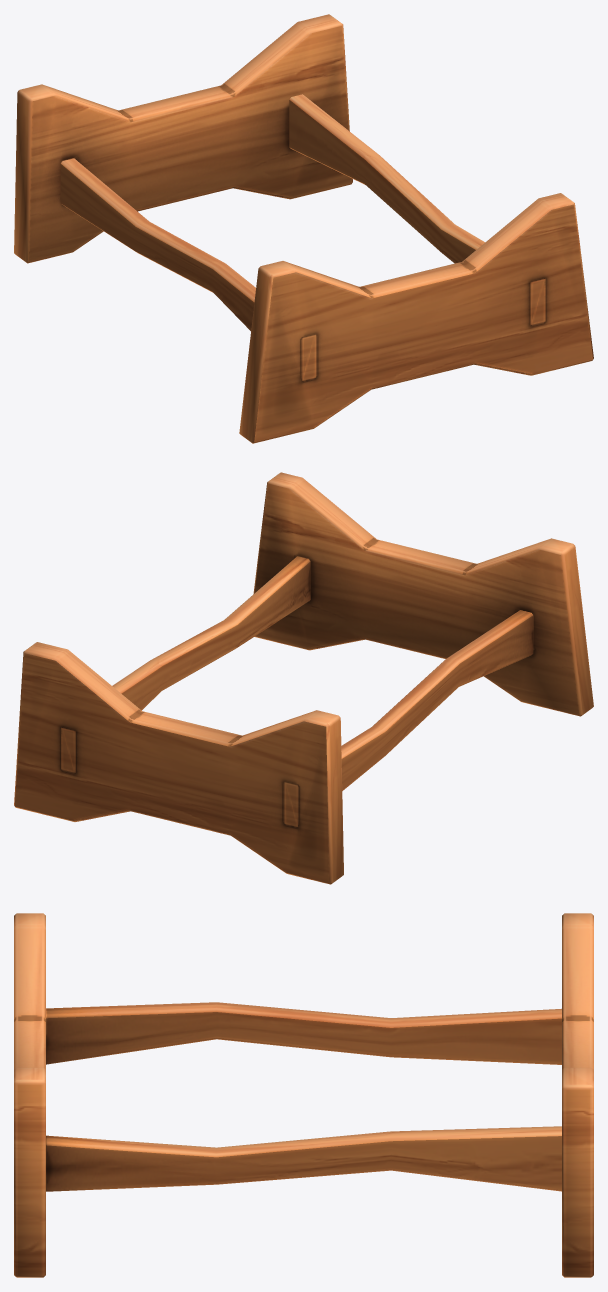
Rendered from BarrelStands01_1.FBX.
3 views of the same model, one above another, from view 1: azimuth 30°, elevation 25°; view 2: azimuth 150°, elevation 25°; view 3: azimuth 270°, elevation 25° (orthographic). The views are drawn at different scales.
Visible parts, largest first — view 1: BarrelStands01_1; view 2: BarrelStands01_1; view 3: BarrelStands01_1.
Boxes of the visible parts, x1=… form: BarrelStands01_1: x1=14, y1=14, x2=593, y2=443; BarrelStands01_1: x1=14, y1=472, x2=593, y2=884; BarrelStands01_1: x1=14, y1=913, x2=593, y2=1277.
Size of what is drawn, in the model's own units: 0.7015 by 0.3209 by 0.9039.
